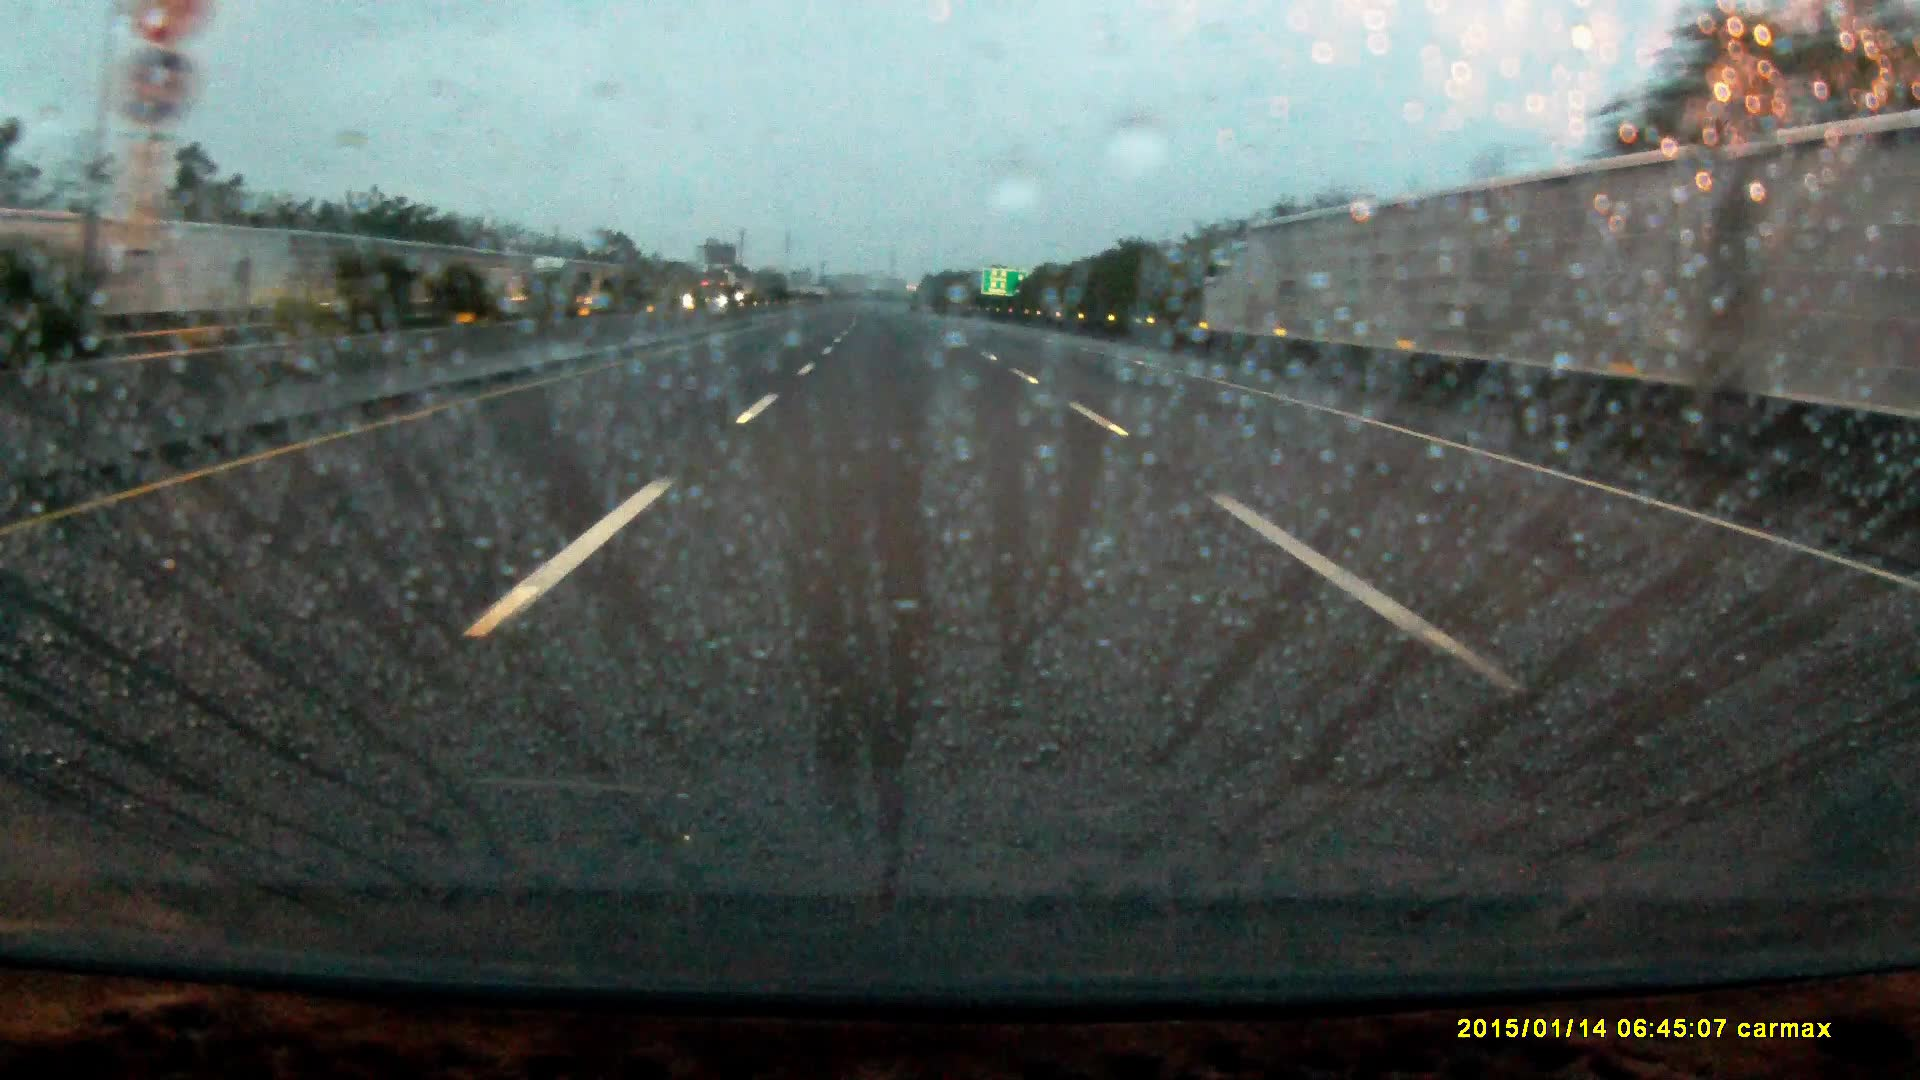vehicle: (527, 256, 600, 309), (700, 274, 738, 309)
